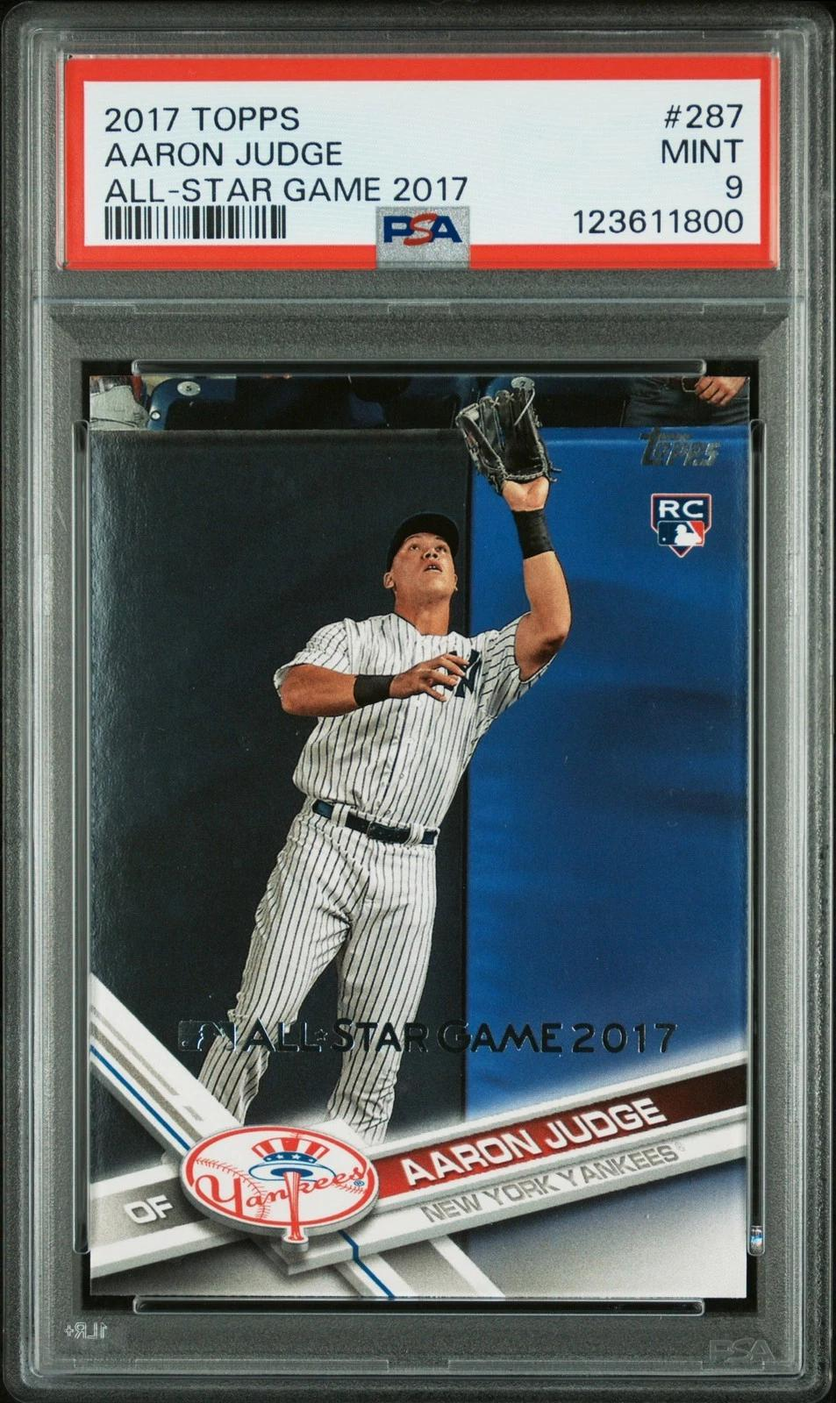card-2UtV: (89, 375, 750, 1299)
